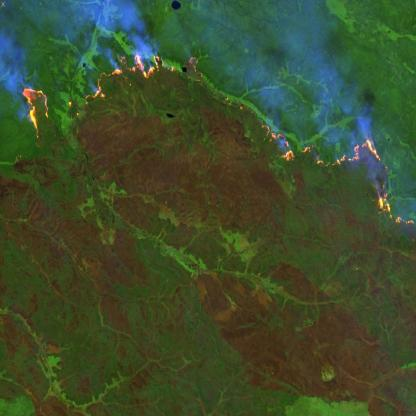fire: (14, 42, 204, 153), (259, 118, 416, 236)
